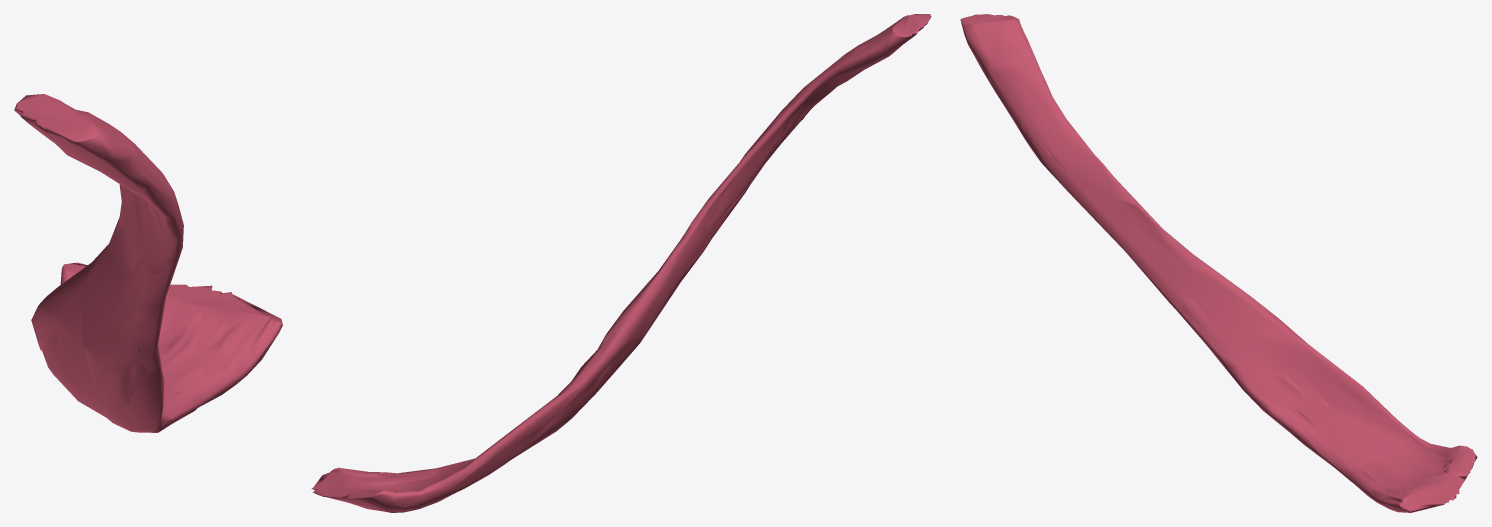
3 renders of one model, left to right at view 1: azimuth 30°, elevation 25°; view 2: azimuth 150°, elevation 25°; view 3: azimuth 270°, elevation 25°, orthographic. The views are drawn at different scales.
Parts seen in each view (by area): view 1: 右侧胸大肌腹部; view 2: 右侧胸大肌腹部; view 3: 右侧胸大肌腹部.
Boxes of the visible parts, left/top/right/bottom form: 右侧胸大肌腹部: left=14, top=94, right=282, bottom=432; 右侧胸大肌腹部: left=311, top=14, right=931, bottom=512; 右侧胸大肌腹部: left=960, top=14, right=1477, bottom=512.
Bounding box in the file's own units: 0.1947 × 0.196 × 0.2606.
